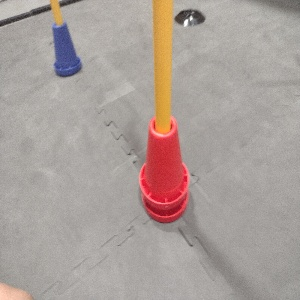Blue_1: (49, 18, 83, 77)
Red_2: (137, 114, 190, 224)
